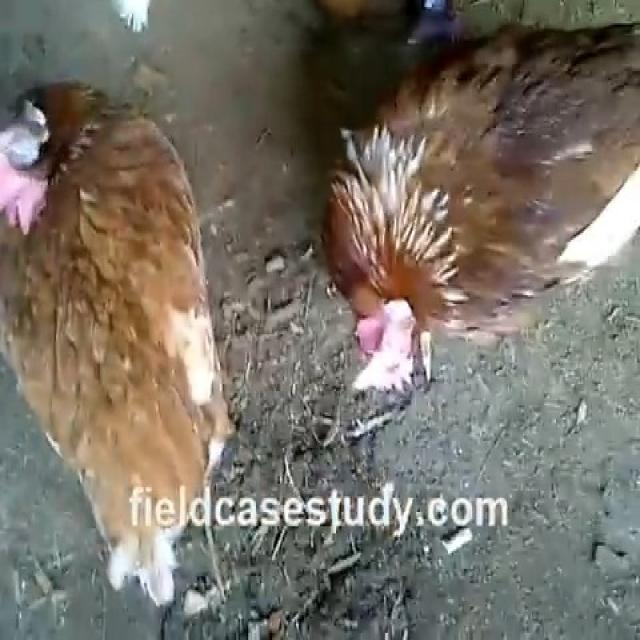bird flu: (313, 18, 628, 437), (0, 0, 196, 612)
